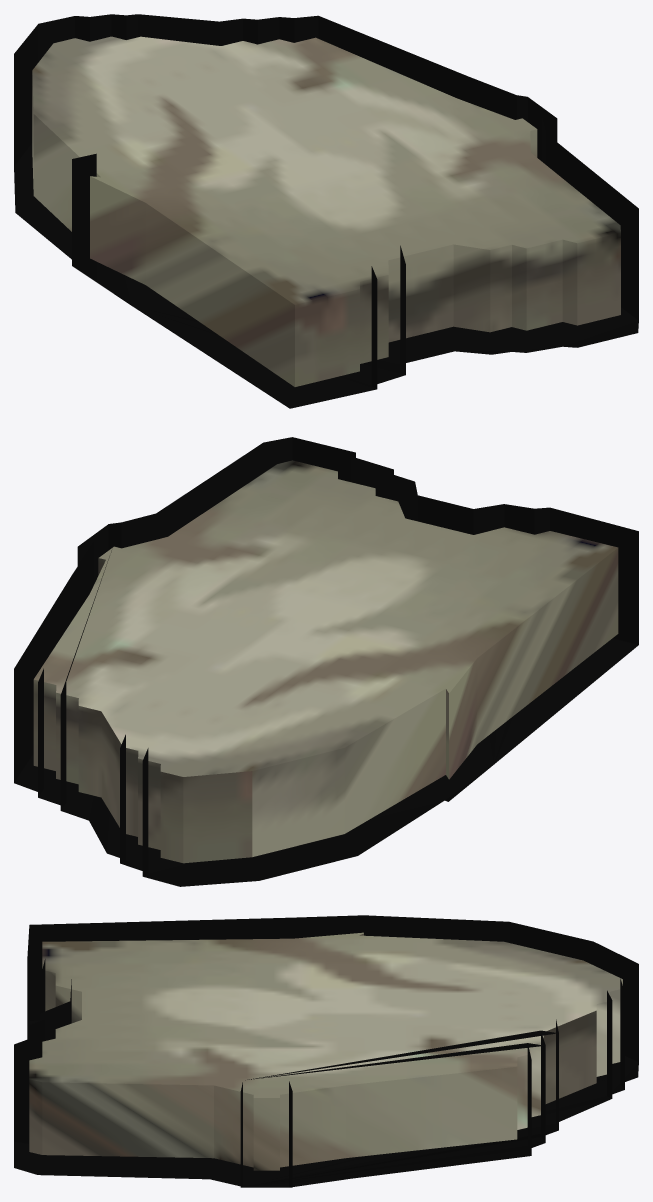
Rendered from Building_CocoonSpelopede_Things_Building_Natural_CocoonSpelopede_CocoonSpelopedeB.glb.
The picture shows the model from 3 angles, top to bottom: view 1: azimuth 30°, elevation 25°; view 2: azimuth 150°, elevation 25°; view 3: azimuth 270°, elevation 25°; orthographic projection. The views are drawn at different scales.
Visible parts, largest first — view 1: Body, Outline; view 2: Body, Outline; view 3: Body, Outline.
Boxes of the visible parts, left/top/right/bottom form: Body: left=32, top=36, right=620, bottom=386; Outline: left=14, top=14, right=638, bottom=408; Body: left=33, top=460, right=618, bottom=863; Outline: left=14, top=437, right=638, bottom=886; Body: left=29, top=932, right=622, bottom=1170; Outline: left=14, top=915, right=638, bottom=1187.
Bounding box in the file's own units: 0.8738 × 0.2607 × 1.32.
2 materials, 1 textured.
